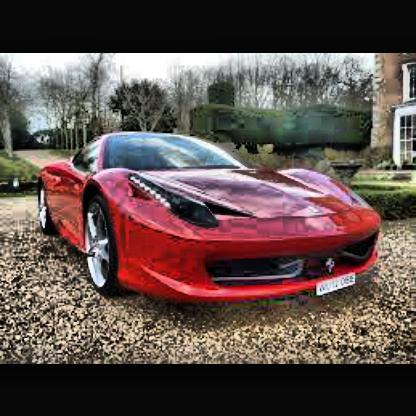Ferrari 458 Italia Coupe 2012: (40, 129, 385, 310)
